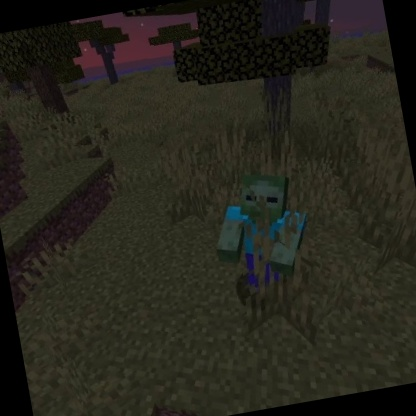zombie: (200, 160, 325, 310)
